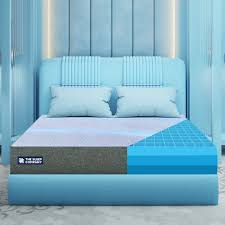bed-matress: (10, 116, 217, 173)
